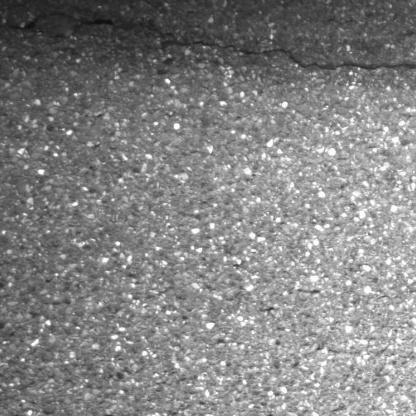Cracks: (184, 38, 416, 75), (7, 8, 120, 34)
